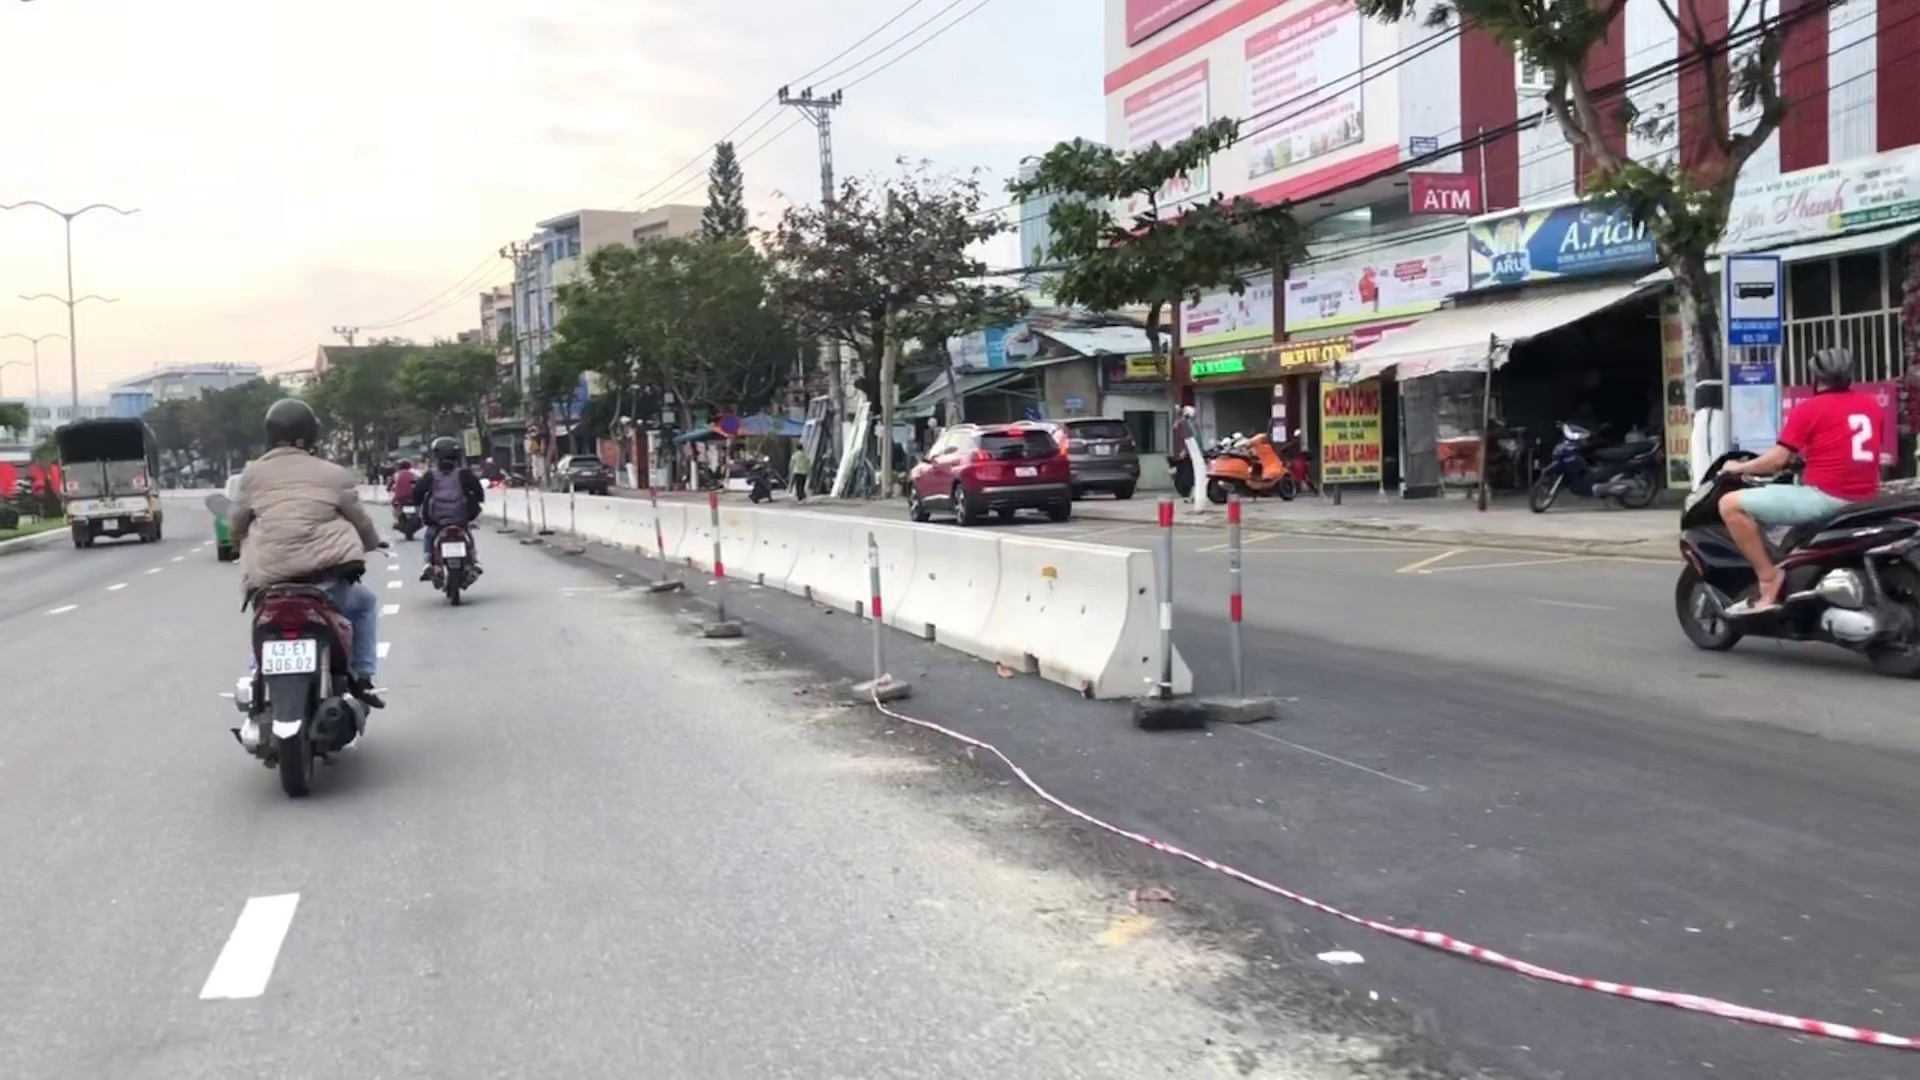Bien khac: (1724, 252, 1782, 352)
Cam do xe: (720, 413, 741, 436)
